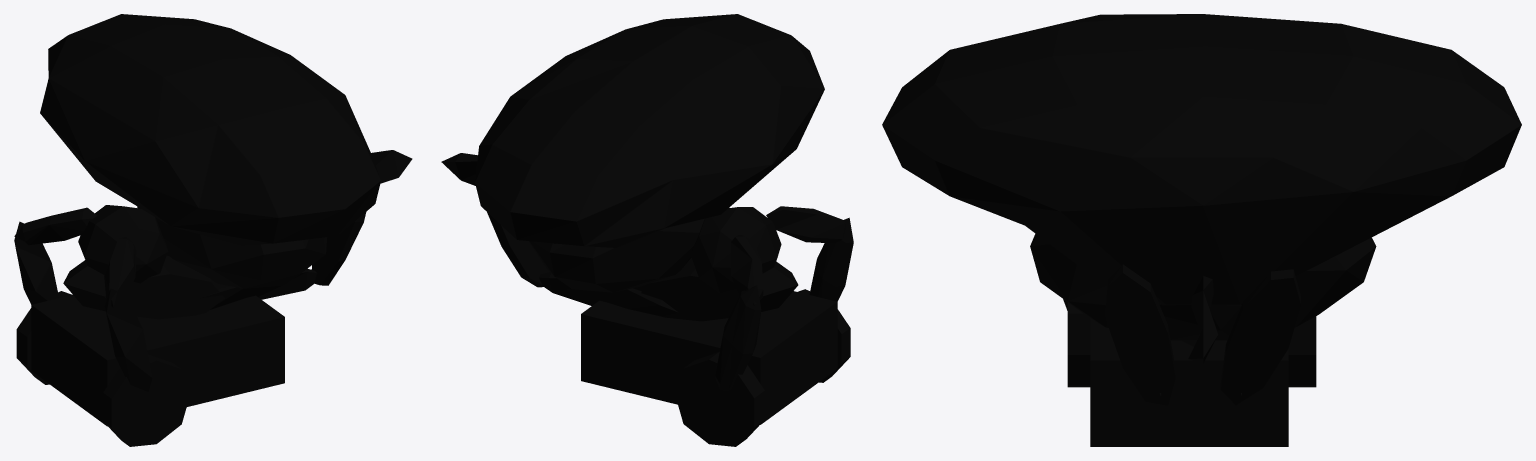
3 renders of one model, left to right at view 1: azimuth 30°, elevation 25°; view 2: azimuth 150°, elevation 25°; view 3: azimuth 270°, elevation 25°, orthographic. The views are drawn at different scales.
Parts seen in each view (by area): view 1: test; view 2: test; view 3: test.
Boxes of the visible parts, x1,y1,x2,y2 form: test: (14, 14, 412, 446); test: (441, 14, 853, 446); test: (882, 14, 1521, 446).
Bounding box in the file's own units: 84.62 × 72.12 × 101.
1 material, 1 textured.
